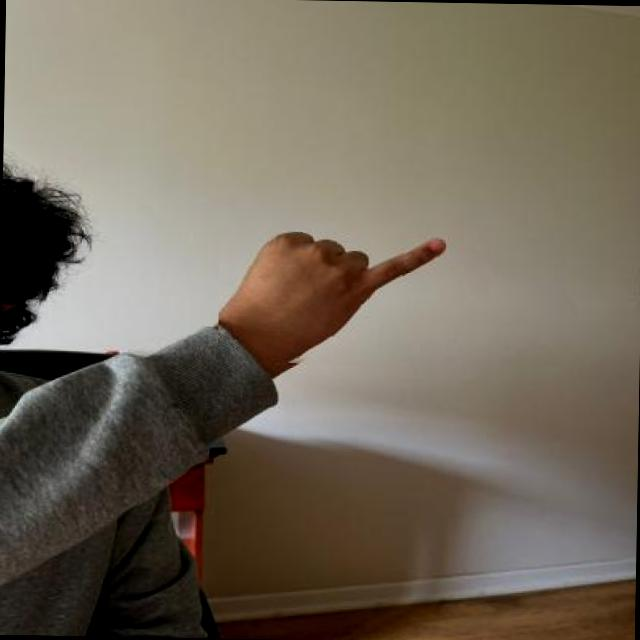J: (217, 220, 456, 370)
